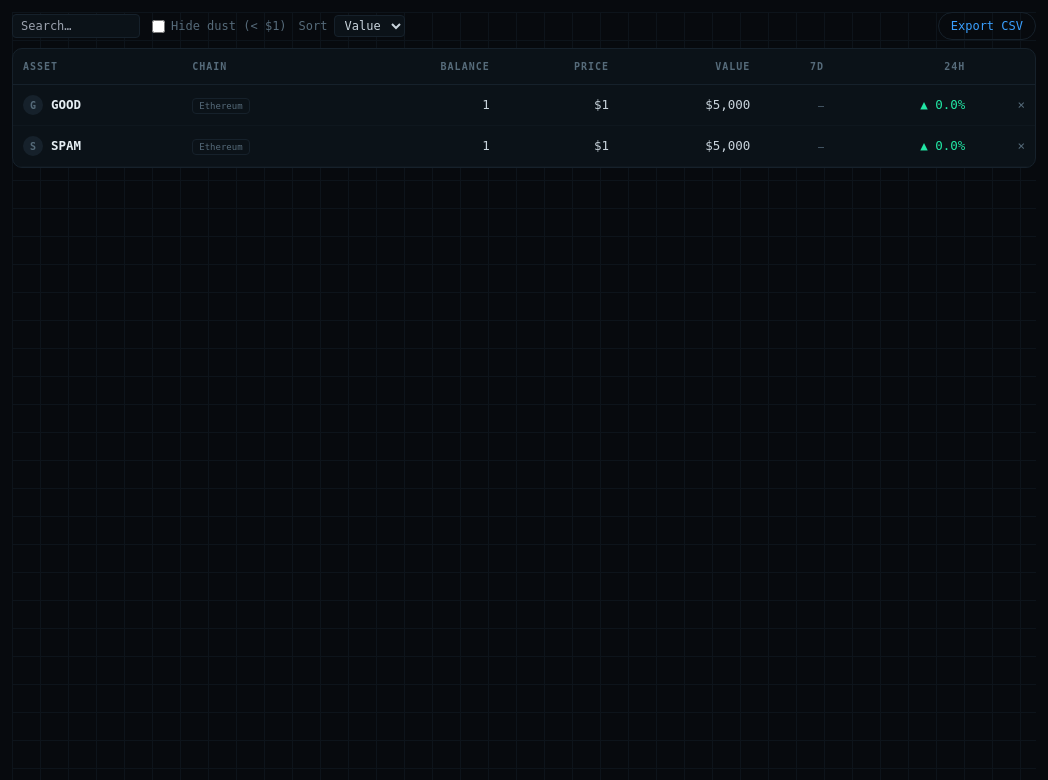
Test: HoldingsPanel › hides a token and lists it under the hidden section
Step 1. Click the button named "hide SPAM" → (1021, 146), box [1018,137,1025,155]
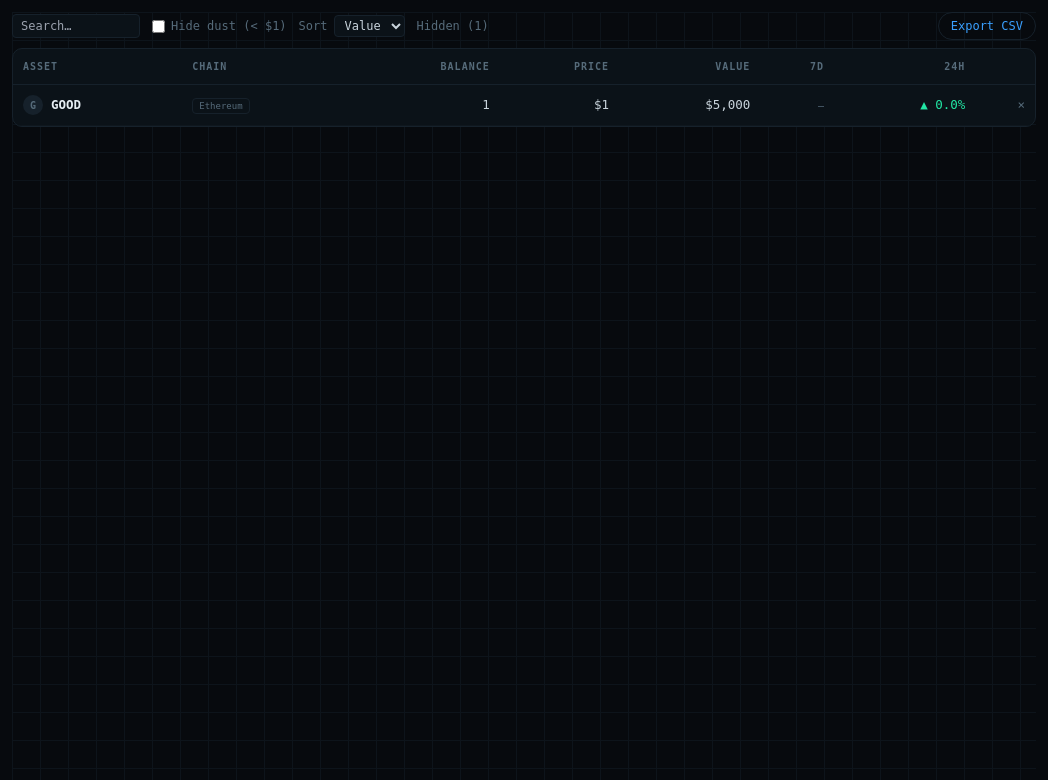
Expected: the text "GOOD" is shown, [51,96,81,114]
Now the button "SPAM" is gone
Step 2. Click the button "Hidden (1)" → (453, 26), box [416,17,489,35]
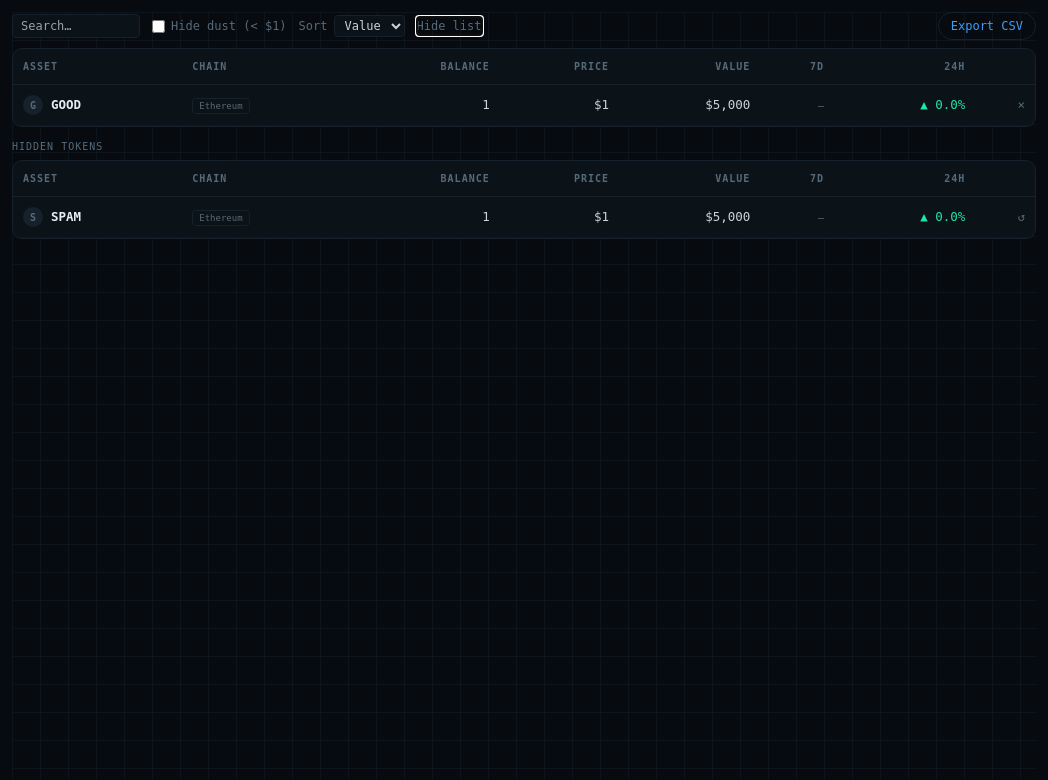
Now the text "SPAM" is shown, box [51,208,81,226]
